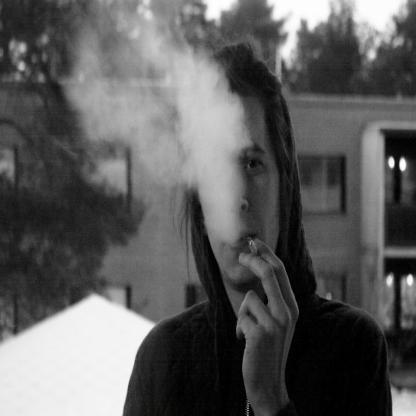smoking: (248, 237, 260, 260)
